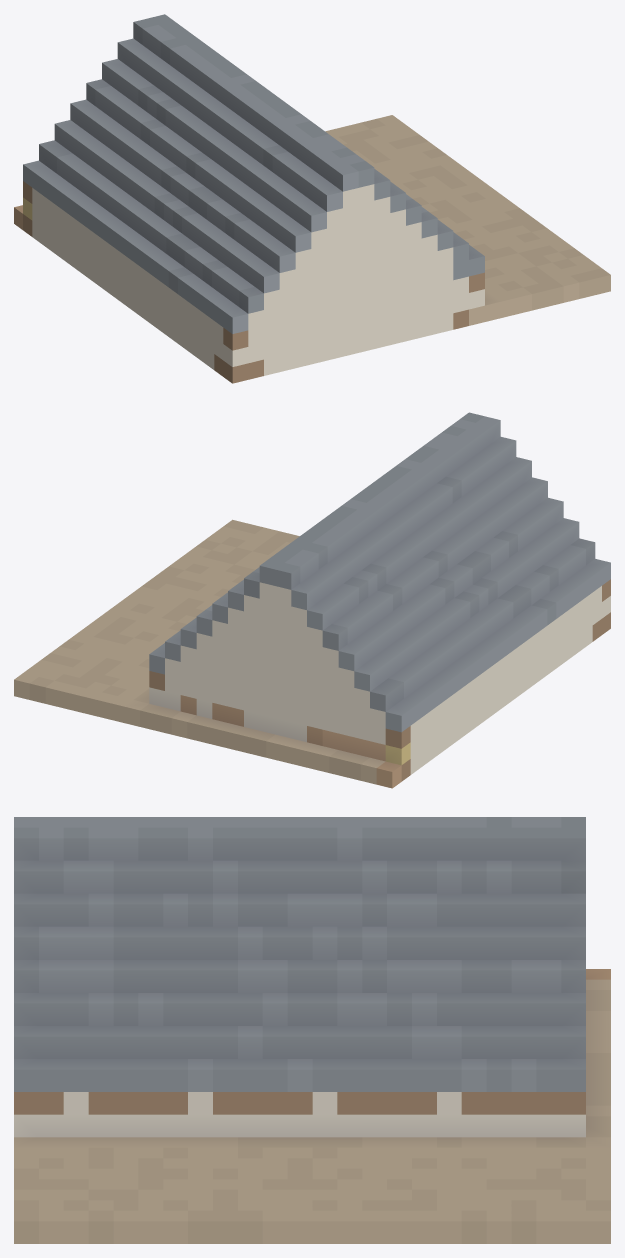
File: university.lite.glb
3 renders of one model, top to bottom at view 1: azimuth 30°, elevation 25°; view 2: azimuth 150°, elevation 25°; view 3: azimuth 270°, elevation 25°, orthographic. The views are drawn at different scales.
Parts seen in each view (by area): view 1: university; view 2: university; view 3: university.
Boxes of the visible parts, left/top/right/bottom form: university: left=14, top=14, right=610, bottom=383; university: left=14, top=412, right=610, bottom=788; university: left=14, top=817, right=610, bottom=1243.
Size of the model in its own units: 12 by 5.5 by 12.
